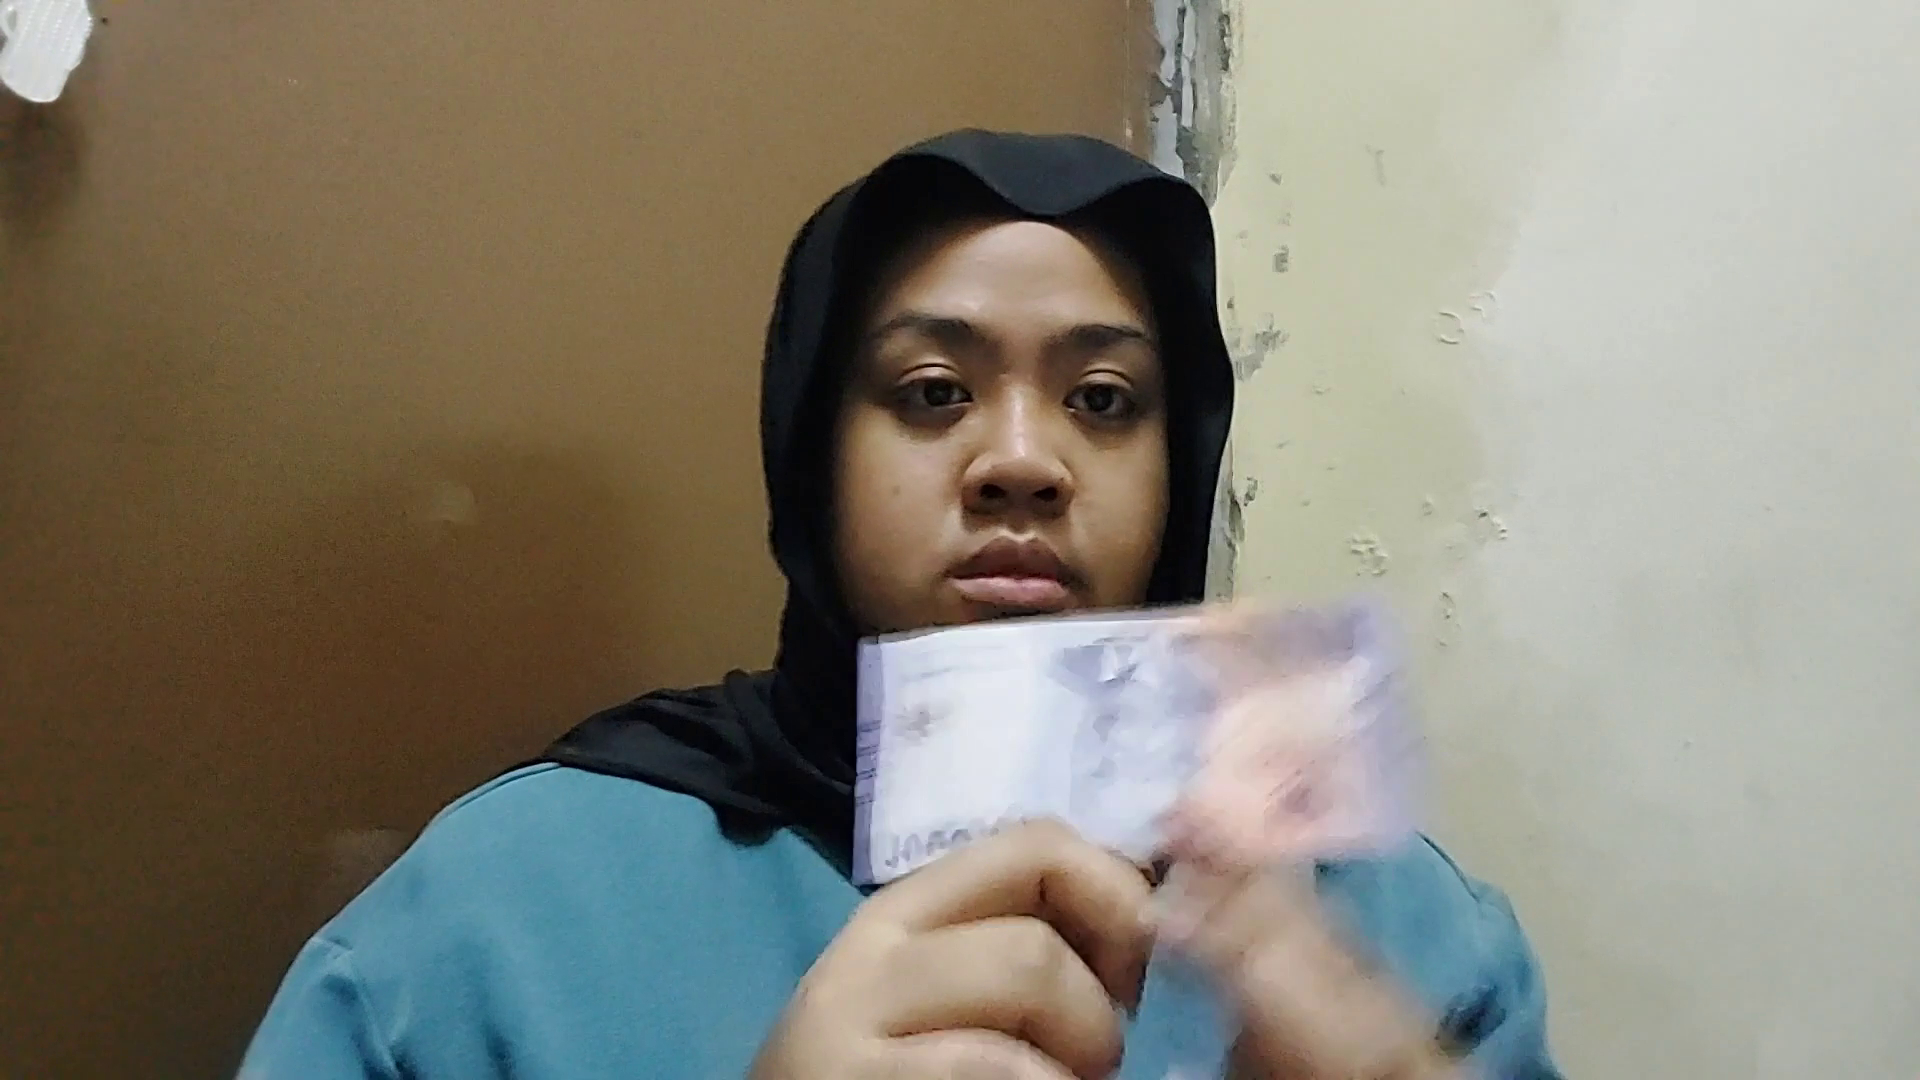10k: (843, 620, 1436, 877)
